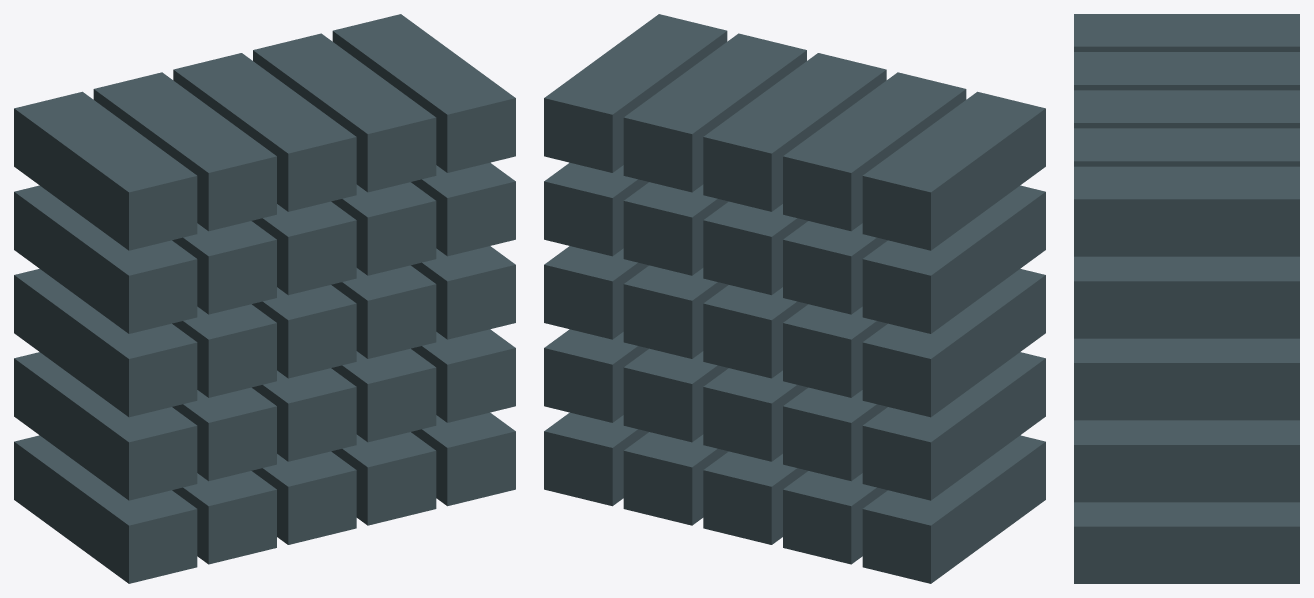
The model's file is FacadeKit_ParkingOpeningGrid_LOD1.glb.
3 renders of one model, left to right at view 1: azimuth 30°, elevation 25°; view 2: azimuth 150°, elevation 25°; view 3: azimuth 270°, elevation 25°, orthographic.
Parts seen in each view (by area): view 1: FacadeKit_ParkingOpeningGrid_LOD1; view 2: FacadeKit_ParkingOpeningGrid_LOD1; view 3: FacadeKit_ParkingOpeningGrid_LOD1.
Part boxes in pixels (x1,y1,x2,y2): FacadeKit_ParkingOpeningGrid_LOD1: [14, 14, 515, 583]; FacadeKit_ParkingOpeningGrid_LOD1: [544, 14, 1045, 583]; FacadeKit_ParkingOpeningGrid_LOD1: [1074, 14, 1299, 583].
Size of the model in its own units: 0.972 by 0.94 by 0.5.
